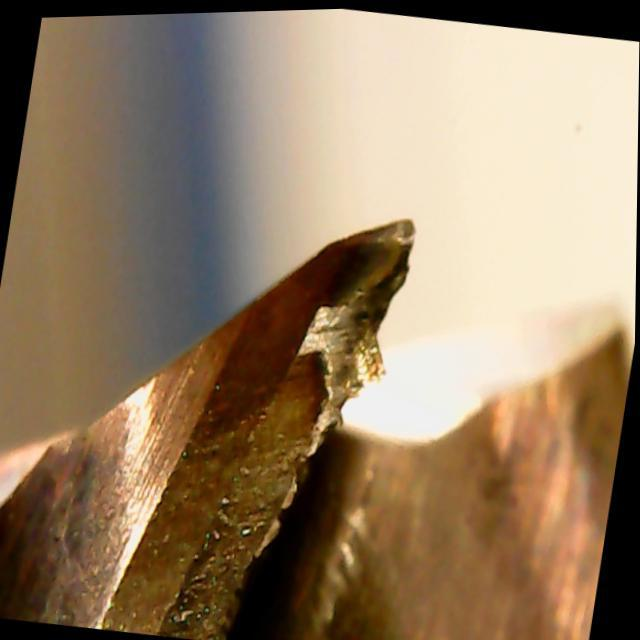Tool-wear-class-3: (229, 186, 439, 448)
